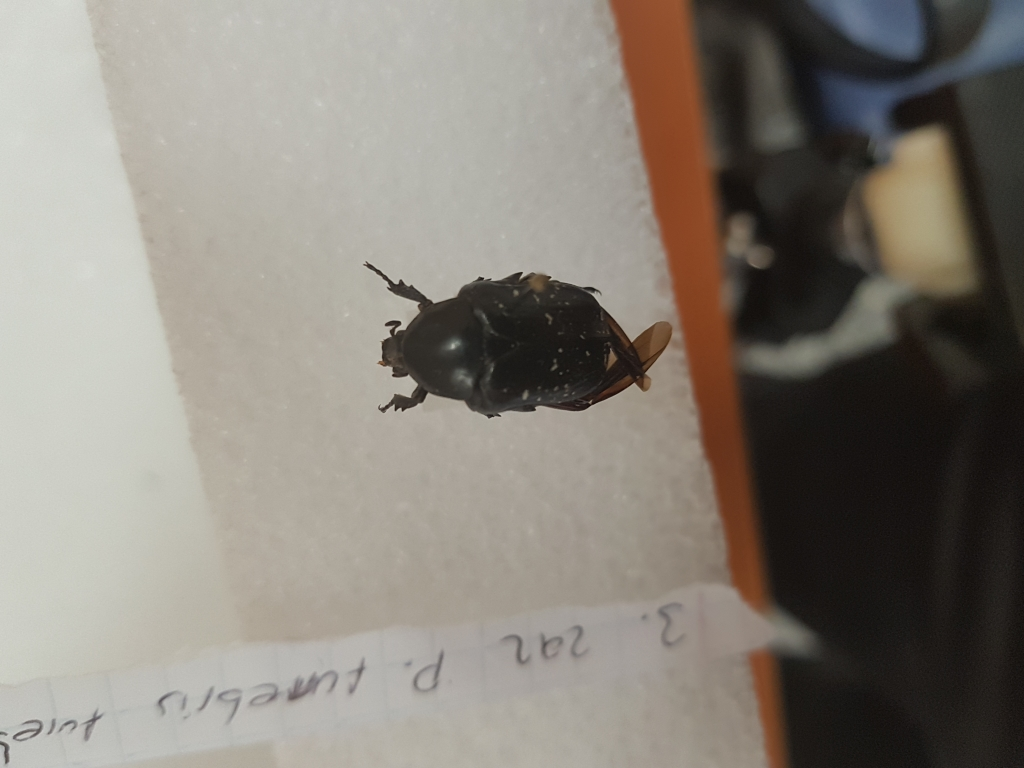Protaetia_funebris_funebris: (352, 258, 689, 442)
